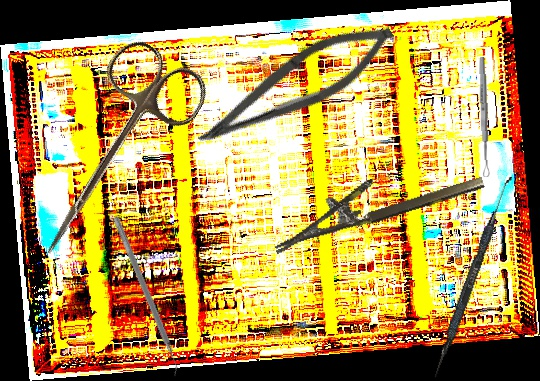Iris Scissors: (9, 32, 215, 282)
Micro Scissor: (187, 2, 405, 172)
Needle Holder: (264, 148, 486, 254)
Spatula Surgical: (431, 173, 513, 381), (105, 215, 186, 379)
Surgical Spoon: (477, 56, 491, 178)
